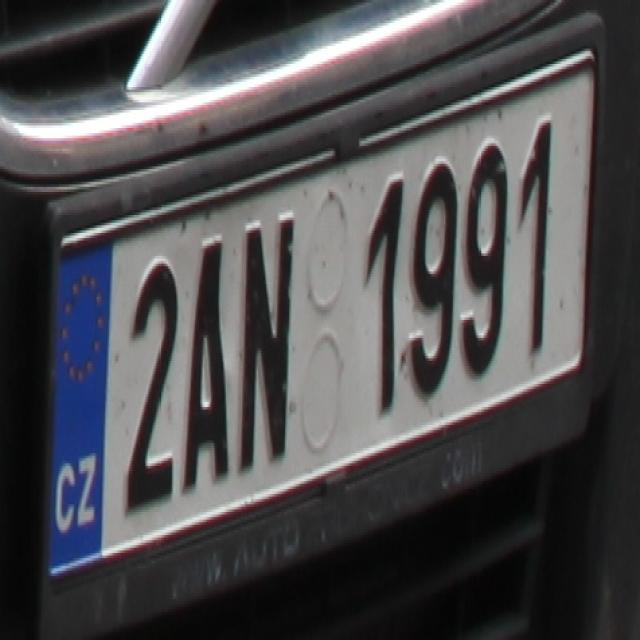1: (364, 177, 402, 412), (519, 120, 554, 358)
2: (118, 256, 179, 507)
9: (461, 133, 514, 379), (406, 159, 453, 397)
A: (180, 230, 234, 487)
N: (234, 205, 296, 468)
